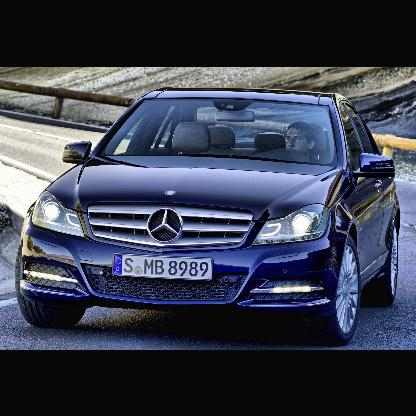Mercedes-Benz C-Class Sedan 2012: (15, 87, 402, 346)
